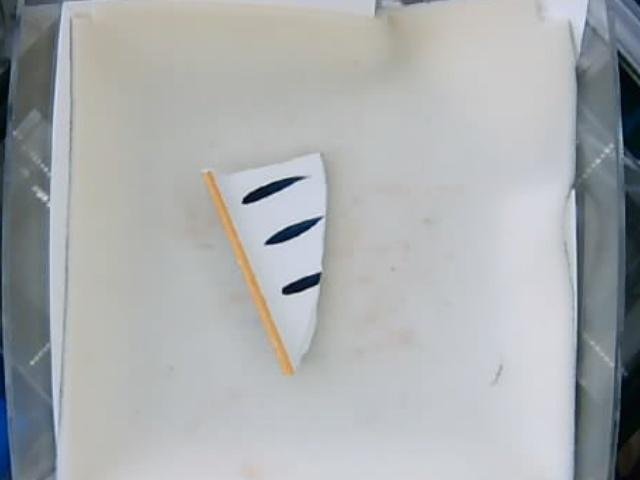China: (202, 150, 328, 375)
